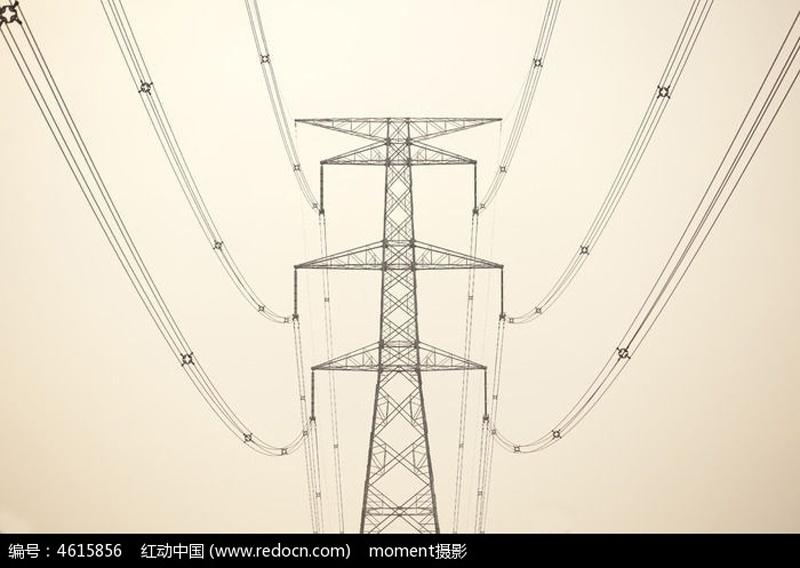power_tower: (286, 95, 492, 530)
